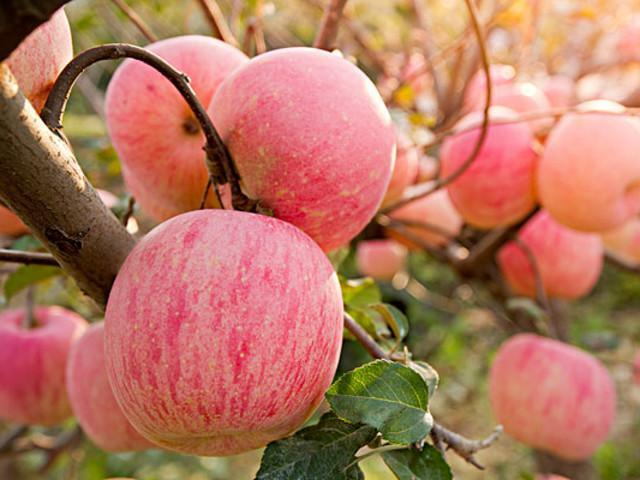apple: (99, 207, 340, 449), (206, 43, 397, 253), (107, 36, 247, 210), (486, 330, 617, 468), (532, 105, 638, 228), (439, 117, 543, 227), (1, 307, 80, 428)
